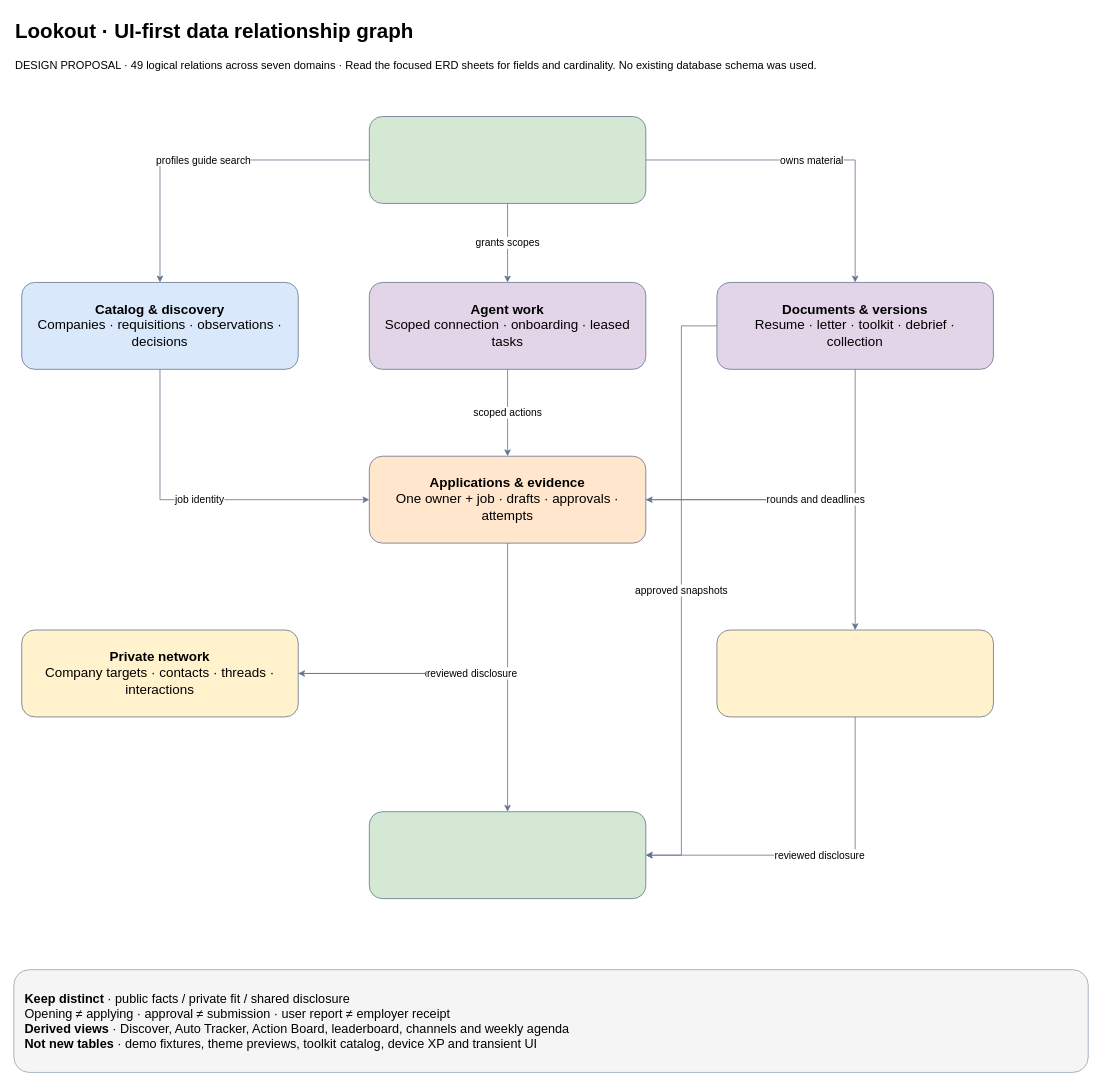
Image size: 1102x1086. Some labels were removed from this diagram. The shapes that lost their labels are listed below. From the top down, each one's centre as x and y in pixels, then its label:
(507,159): Candidate & preferences Account · facts · profiles · answers · tiers
(854,673): Preparation Plans · tasks · sessions · shared credits
(507,855): Circle publication Membership · approved snapshots · feed · receipts
